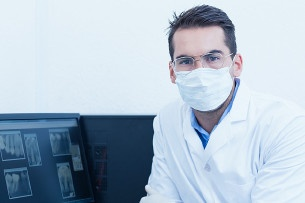Mask: (172, 49, 233, 110)
